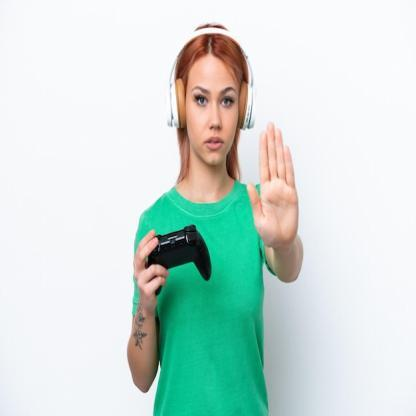stop: (244, 117, 300, 252)
